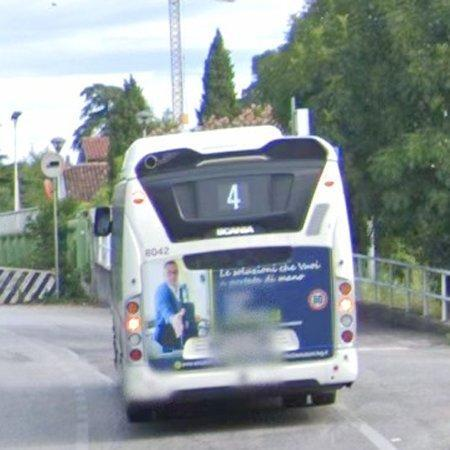buses: (95, 127, 359, 422)
